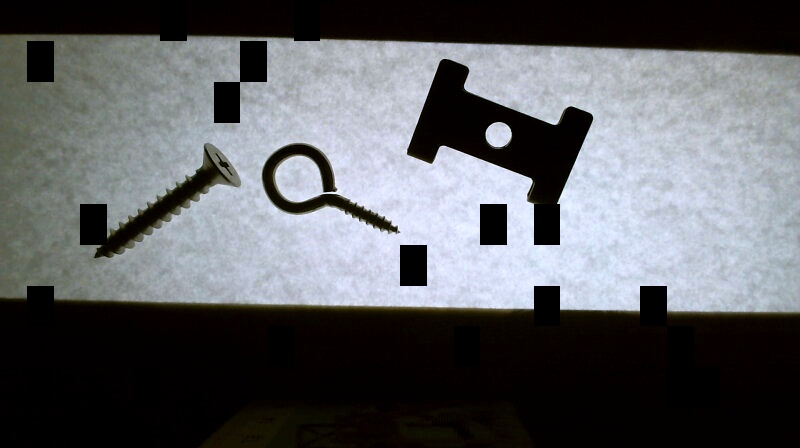O001: (257, 139, 404, 237)
O002: (402, 55, 597, 211)
S001: (88, 137, 245, 263)
